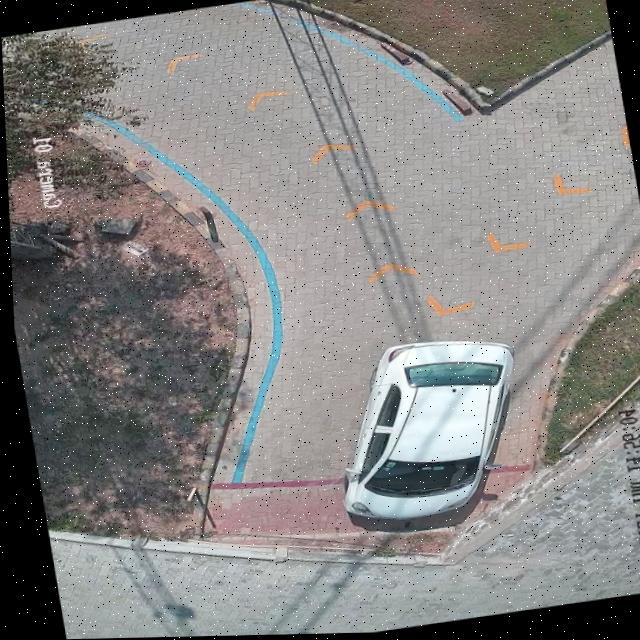car: (339, 342, 509, 521)
